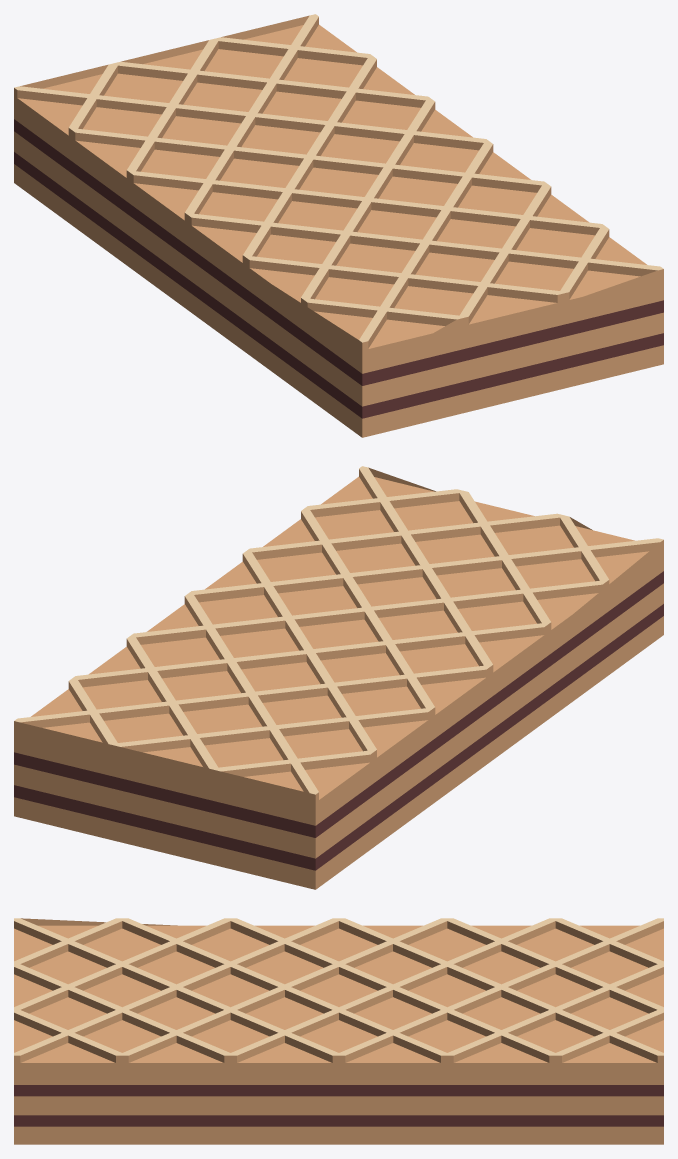
Rendered from SM_frufru.fbx.
3 views of the same model, one above another, from view 1: azimuth 30°, elevation 25°; view 2: azimuth 150°, elevation 25°; view 3: azimuth 270°, elevation 25° (orthographic). The views are drawn at different scales.
Parts seen in each view (by area): view 1: SM_frufru; view 2: SM_frufru; view 3: SM_frufru.
Boxes of the visible parts, left/top/right/bottom form: SM_frufru: left=14, top=14, right=663, bottom=437; SM_frufru: left=14, top=466, right=663, bottom=889; SM_frufru: left=14, top=918, right=663, bottom=1144.
Size of the model in its own units: 353 by 107 by 706.
Materials: 1 (1 with a texture image).
